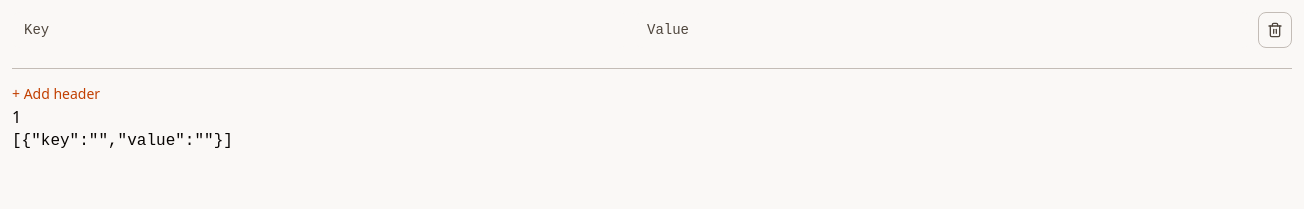
Playground REST — HeadersEditor › adds rows when clicking Add header
Check: the text with test id "row-count" reads "1", box left=12, top=106, right=21, bottom=128
Step 1. Click the button "+ Add header" → (56, 94), box left=12, top=84, right=100, bottom=104
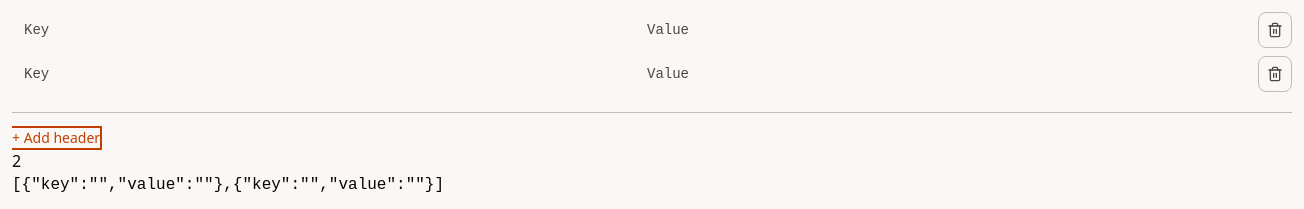
Check: the text with test id "row-count" reads "2", box left=12, top=150, right=21, bottom=172
